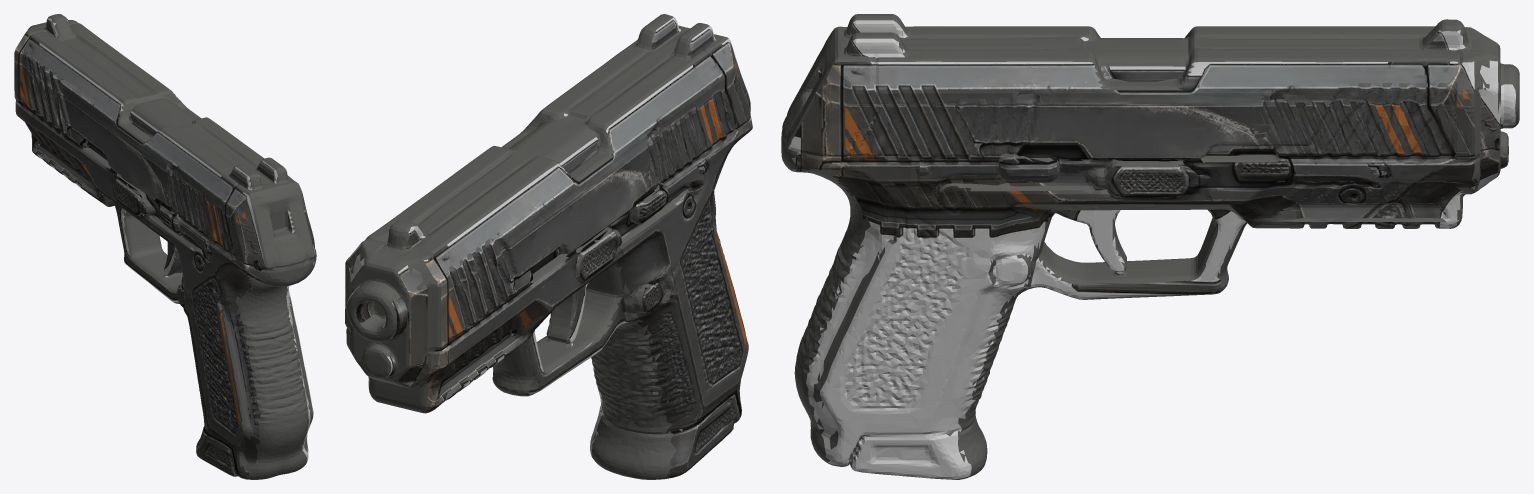
Rendered from sidearm.glb.
3 views of the same model, side by side, from view 1: azimuth 30°, elevation 25°; view 2: azimuth 150°, elevation 25°; view 3: azimuth 270°, elevation 25° (orthographic). The views are drawn at different scales.
Visible parts, largest first — view 1: geometry_0; view 2: geometry_0; view 3: geometry_0.
Boxes of the visible parts, <box> form: geometry_0: <box>14,14,316,479</box>; geometry_0: <box>345,14,752,479</box>; geometry_0: <box>781,14,1519,479</box>.
Bounding box in the file's own units: 0.0451 × 0.1638 × 0.25.
Materials: 1 (1 with a texture image).
